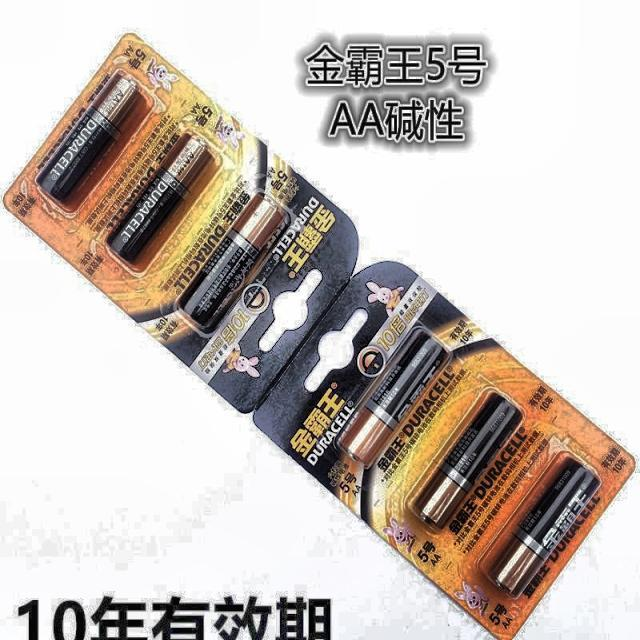battery: (36, 71, 154, 211), (336, 327, 449, 466), (489, 458, 600, 598), (178, 193, 285, 332), (415, 393, 521, 528), (108, 135, 212, 262)
